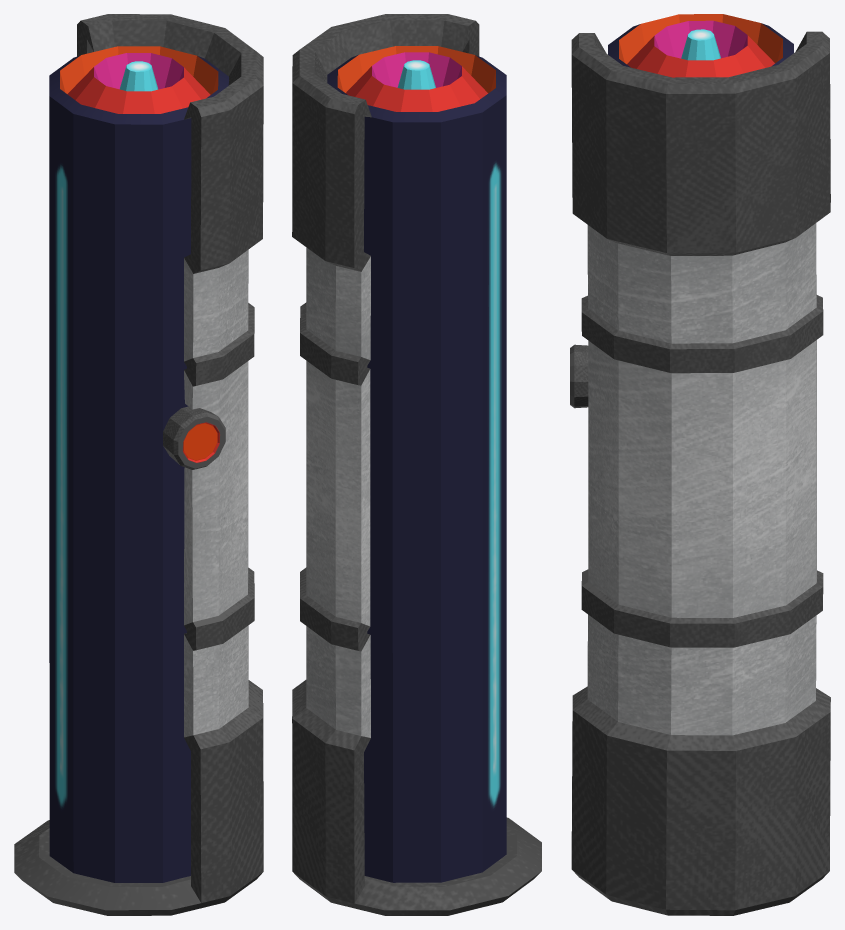
The model's file is TimeMachine_right.fbx.
The picture shows the model from 3 angles, left to right: view 1: azimuth 30°, elevation 25°; view 2: azimuth 150°, elevation 25°; view 3: azimuth 270°, elevation 25°; orthographic projection. The views are drawn at different scales.
Visible parts, largest first — view 1: RIGHT; view 2: RIGHT; view 3: RIGHT.
Boxes of the visible parts, x1,y1,x2,y2 form: RIGHT: [14, 14, 263, 915]; RIGHT: [292, 14, 541, 915]; RIGHT: [570, 14, 830, 915].
Bounding box in the file's own units: 9.05 × 32.16 × 9.12.
Materials: 1 (1 with a texture image).
